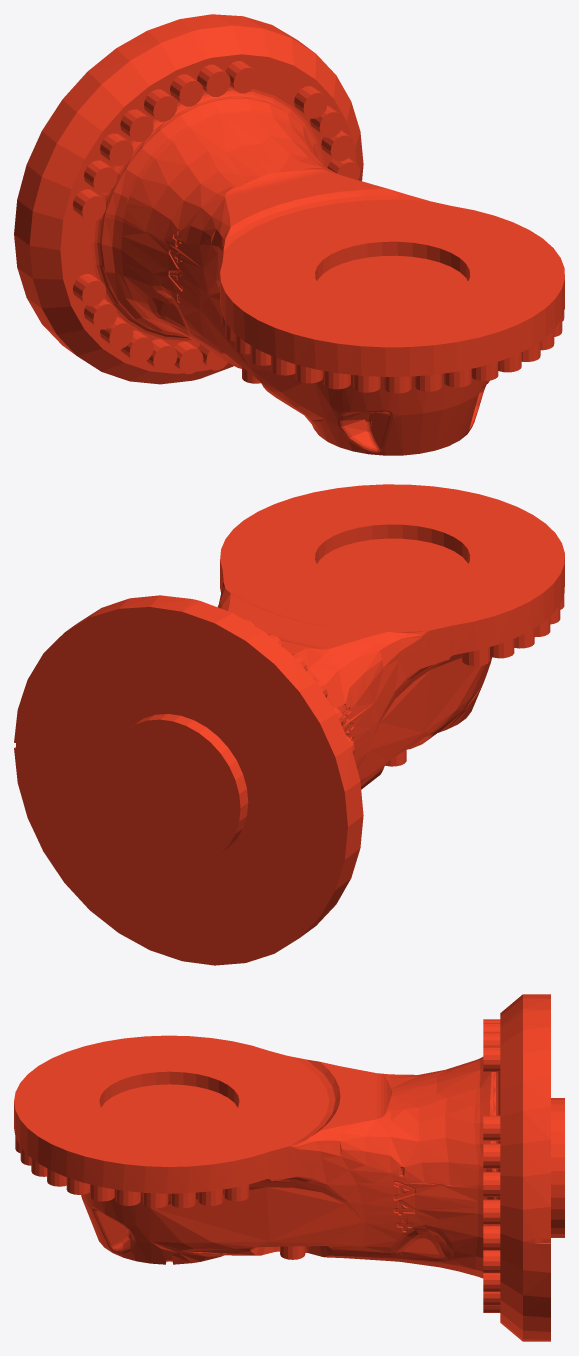
3 renders of one model, top to bottom at view 1: azimuth 30°, elevation 25°; view 2: azimuth 150°, elevation 25°; view 3: azimuth 270°, elevation 25°, orthographic. The views are drawn at different scales.
Bounding box in the file's own units: 0.248 × 0.248 × 0.3932.
